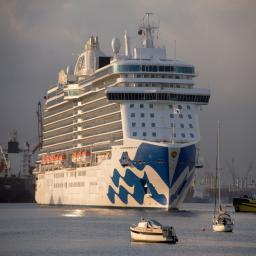cruises: (32, 13, 214, 218)
